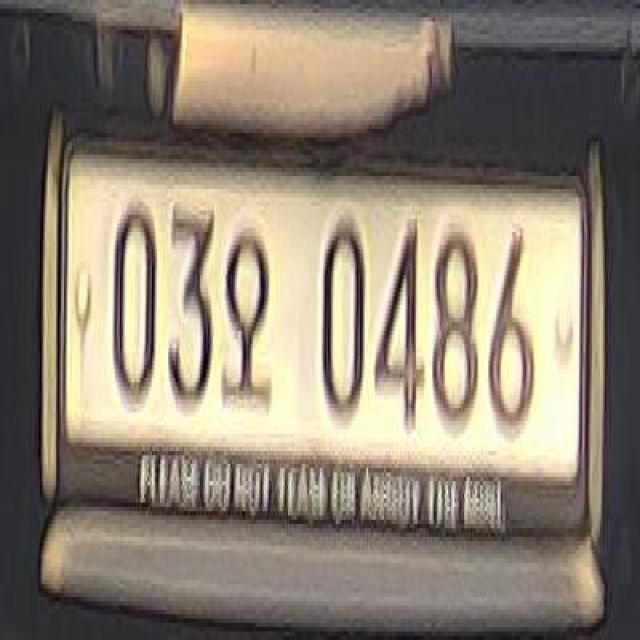illegal_plate: (61, 140, 602, 556)
